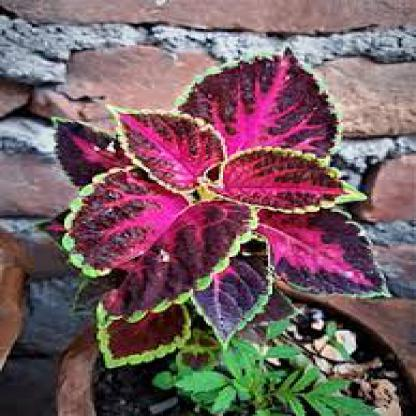Bunga Coleus: (48, 85, 368, 298)
